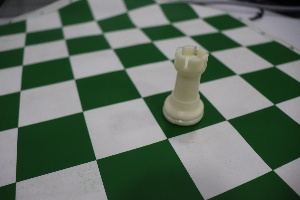white_rook: (166, 31, 211, 132)
